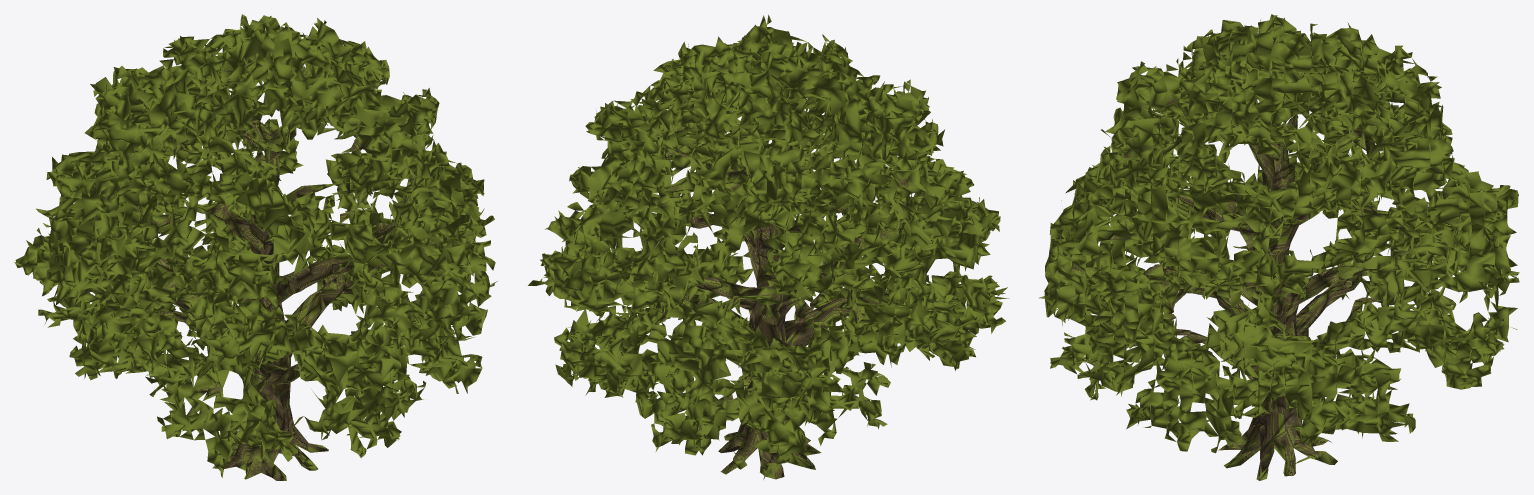
File: oak__oak-tree.glb
3 views of the same model, side by side, from view 1: azimuth 30°, elevation 25°; view 2: azimuth 150°, elevation 25°; view 3: azimuth 270°, elevation 25° (orthographic). The views are drawn at different scales.
Visible parts, largest first — view 1: mesh_node; view 2: mesh_node; view 3: mesh_node.
Boxes of the visible parts, box(x1,y1,x2,y2) form: mesh_node: box(14, 14, 497, 480); mesh_node: box(528, 14, 1009, 479); mesh_node: box(1038, 14, 1519, 480).
Size of the model in its own units: 1.83 by 1.75 by 1.78.
Materials: 1 (1 with a texture image).
